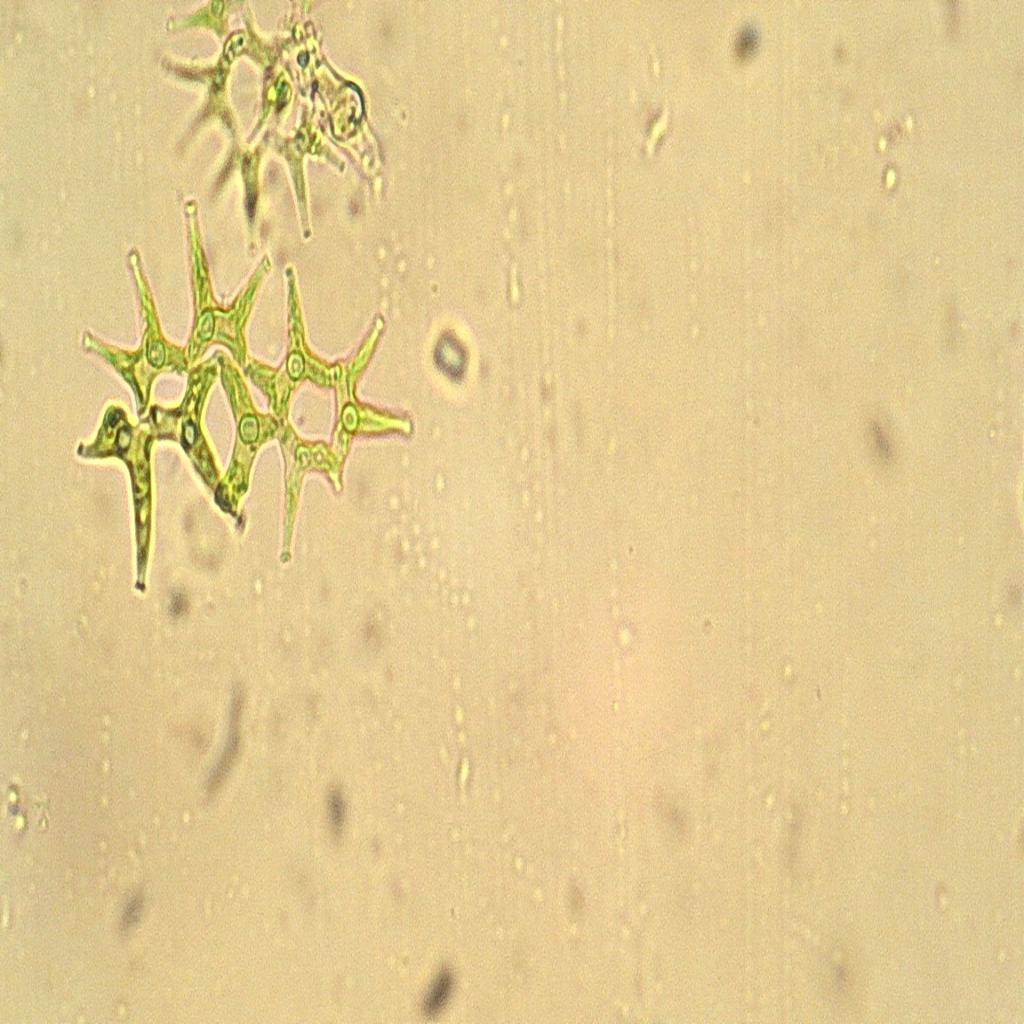Pediastrum_CFI: (68, 195, 427, 606)
